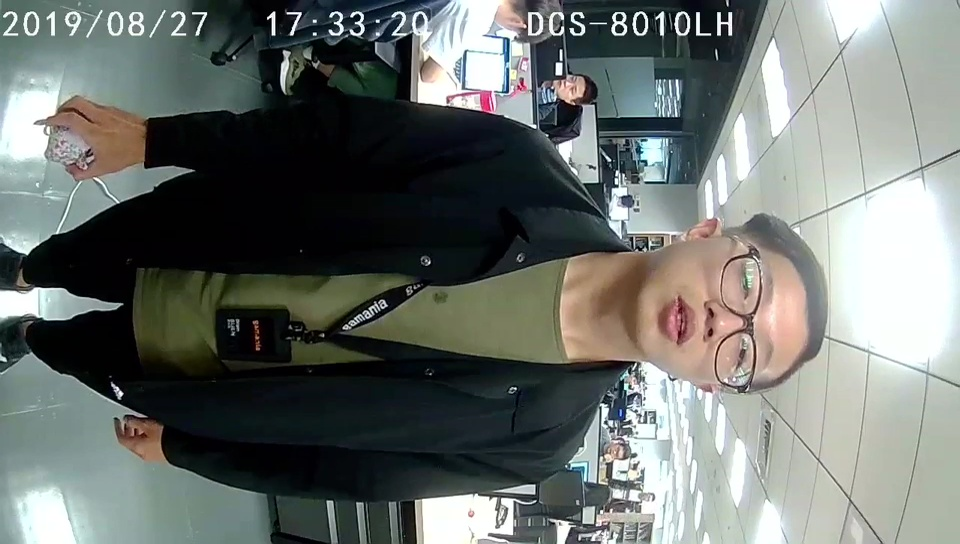pig: (45, 127, 98, 172)
